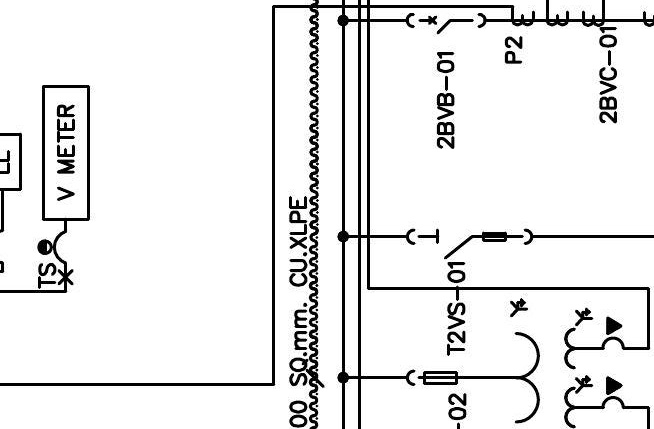22_breaker: (405, 12, 487, 35)
22_ds: (405, 228, 534, 260)
v_m_digital: (41, 84, 91, 222)
